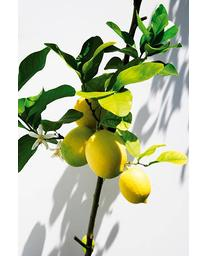lemon: (86, 131, 130, 177), (62, 129, 96, 165), (119, 169, 149, 204)
